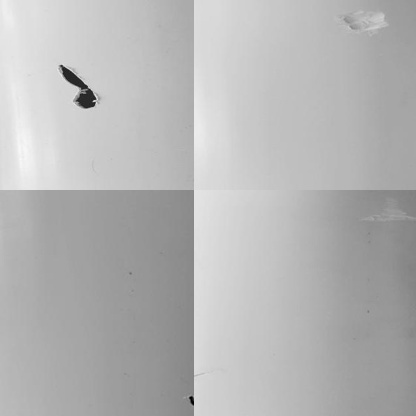kongdong: (56, 61, 100, 110)
sunshang: (355, 194, 411, 226), (339, 7, 388, 34)
